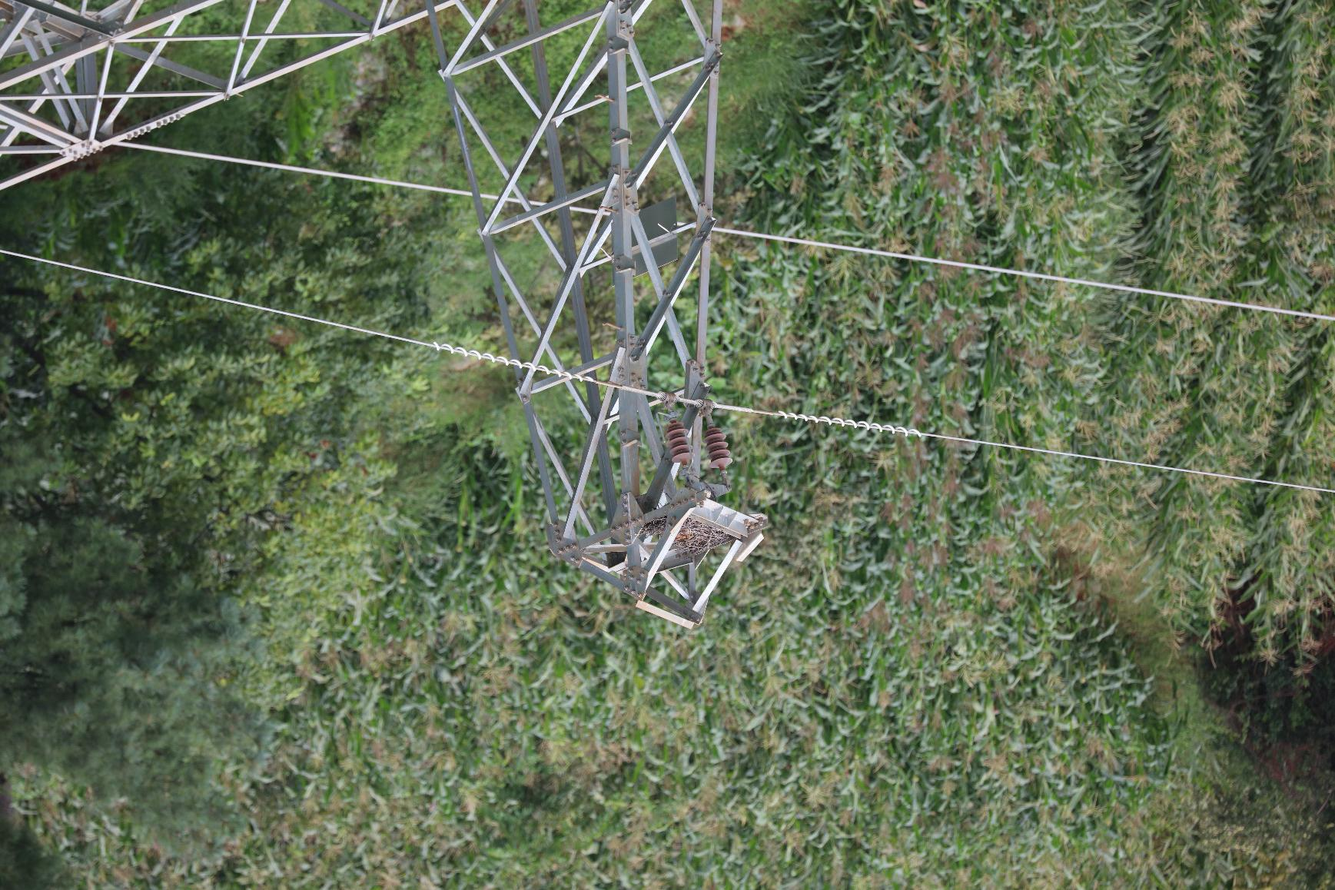nest: (639, 512, 729, 555)
